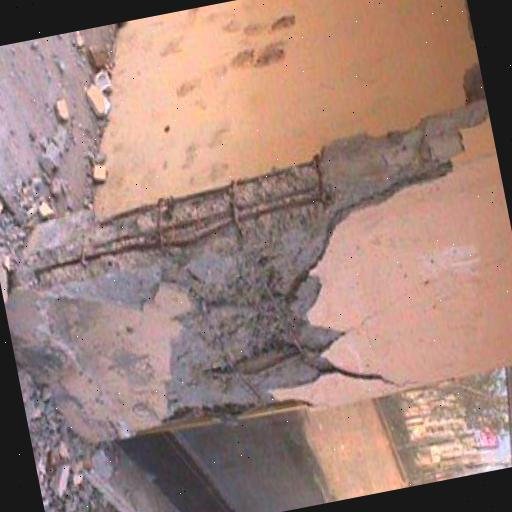spalling: (28, 107, 470, 429)
